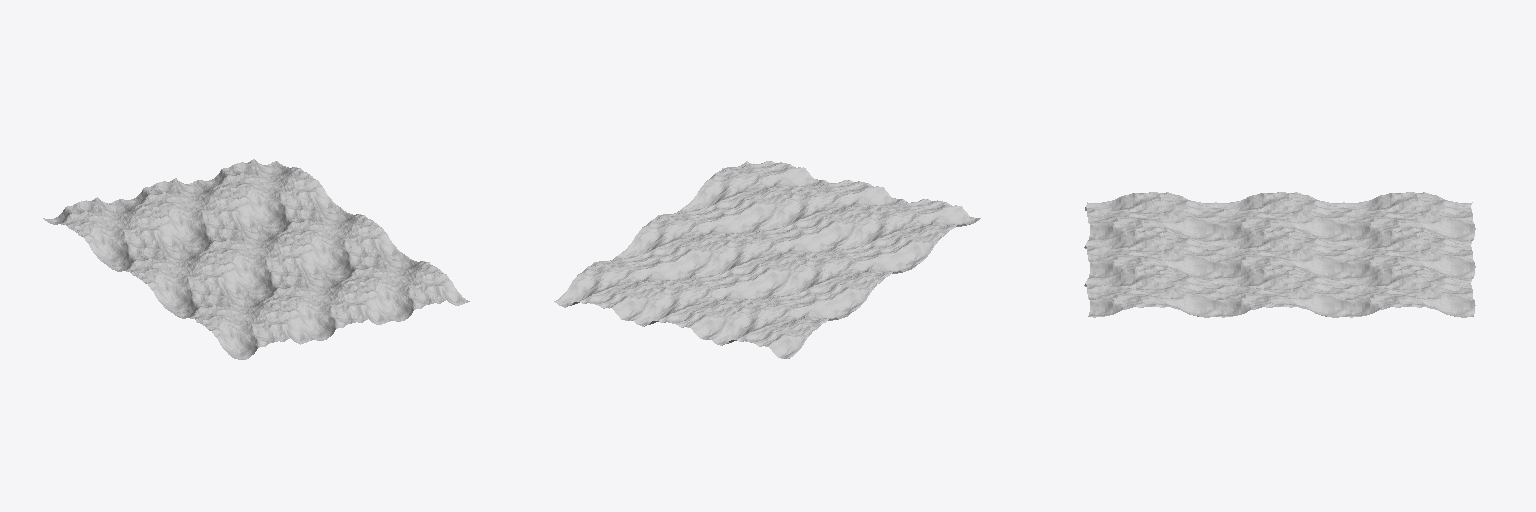
The model's file is ground.mountains.obj.
3 views of the same model, side by side, from view 1: azimuth 30°, elevation 25°; view 2: azimuth 150°, elevation 25°; view 3: azimuth 270°, elevation 25° (orthographic).
Visible parts, largest first — view 1: Plane.002; view 2: Plane.002; view 3: Plane.002.
Boxes of the visible parts, x1,y1,x2,y2 form: Plane.002: [43, 159, 469, 359]; Plane.002: [554, 161, 980, 358]; Plane.002: [1084, 192, 1475, 317].
Size of the model in its own units: 510 by 30.52 by 734.